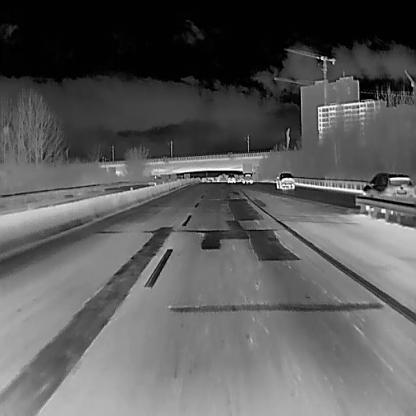car: (361, 171, 415, 204), (275, 172, 294, 188), (241, 172, 252, 183), (226, 174, 236, 182)
